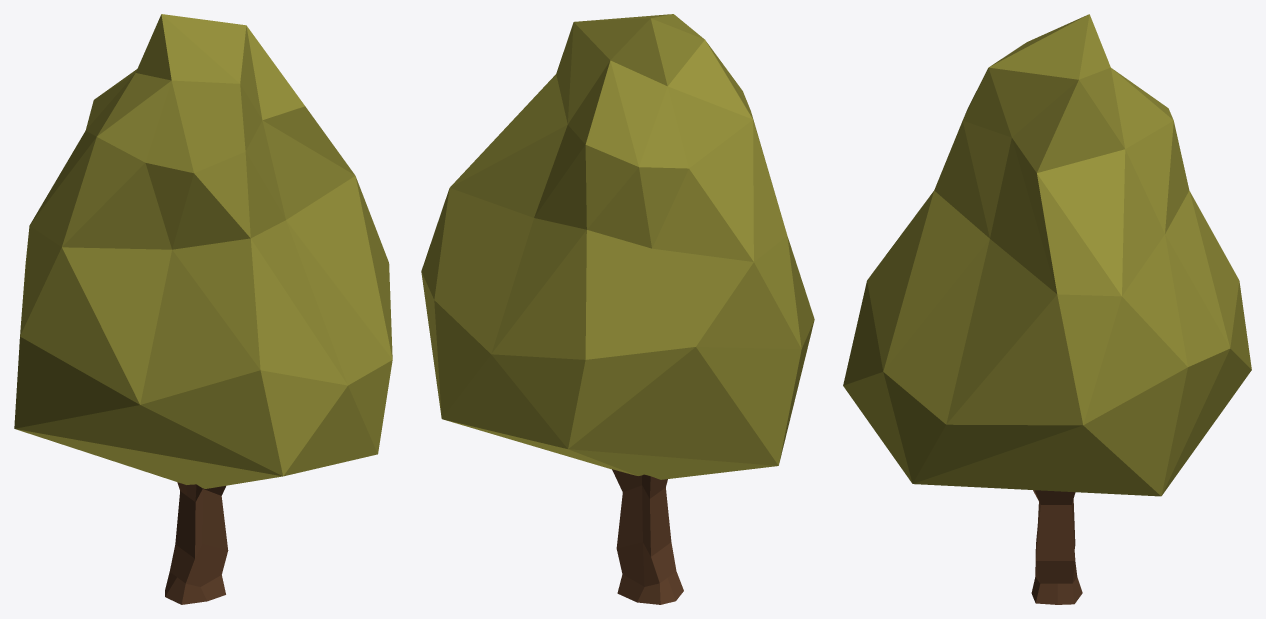
Rendered from Tree_27_Yellow.fbx.
3 renders of one model, left to right at view 1: azimuth 30°, elevation 25°; view 2: azimuth 150°, elevation 25°; view 3: azimuth 270°, elevation 25°, orthographic. The views are drawn at different scales.
Parts seen in each view (by area): view 1: Tree_27_Yellow_Part_1, Tree_27_Yellow_Part_2; view 2: Tree_27_Yellow_Part_1, Tree_27_Yellow_Part_2; view 3: Tree_27_Yellow_Part_1, Tree_27_Yellow_Part_2.
Boxes of the visible parts, bbox=[...] form: Tree_27_Yellow_Part_1: bbox=[14, 14, 392, 488]; Tree_27_Yellow_Part_2: bbox=[165, 482, 228, 604]; Tree_27_Yellow_Part_1: bbox=[421, 14, 814, 479]; Tree_27_Yellow_Part_2: bbox=[612, 469, 683, 604]; Tree_27_Yellow_Part_1: bbox=[843, 14, 1251, 496]; Tree_27_Yellow_Part_2: bbox=[1031, 490, 1082, 604].
Size of the model in its own units: 470 by 696 by 451.
